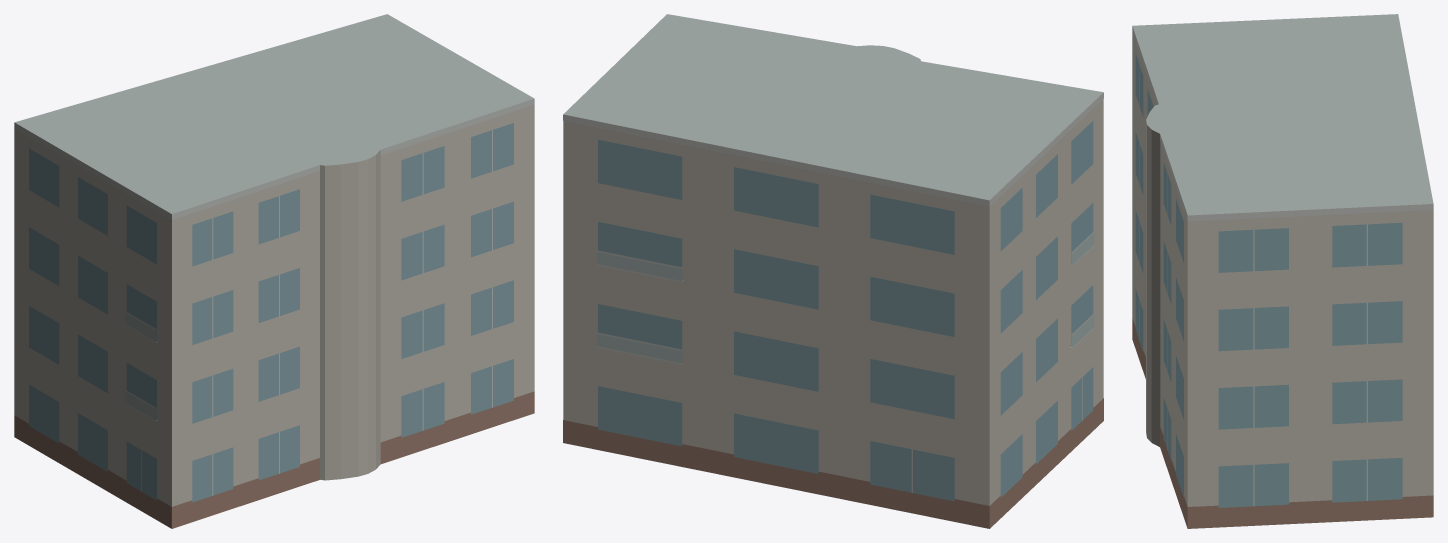
File: survey-upis-32941043.glb
The picture shows the model from 3 angles, left to right: view 1: azimuth 30°, elevation 25°; view 2: azimuth 150°, elevation 25°; view 3: azimuth 270°, elevation 25°; orthographic projection. The views are drawn at different scales.
Parts seen in each view (by area): view 1: survey-upis-32941043.tmp; view 2: survey-upis-32941043.tmp; view 3: survey-upis-32941043.tmp.
Part boxes in pixels (left/top/right/bottom): survey-upis-32941043.tmp: left=14, top=14, right=534, bottom=528; survey-upis-32941043.tmp: left=563, top=14, right=1103, bottom=528; survey-upis-32941043.tmp: left=1132, top=14, right=1433, bottom=528.
Bounding box in the file's own units: 17.66 × 12.8 × 11.16.
